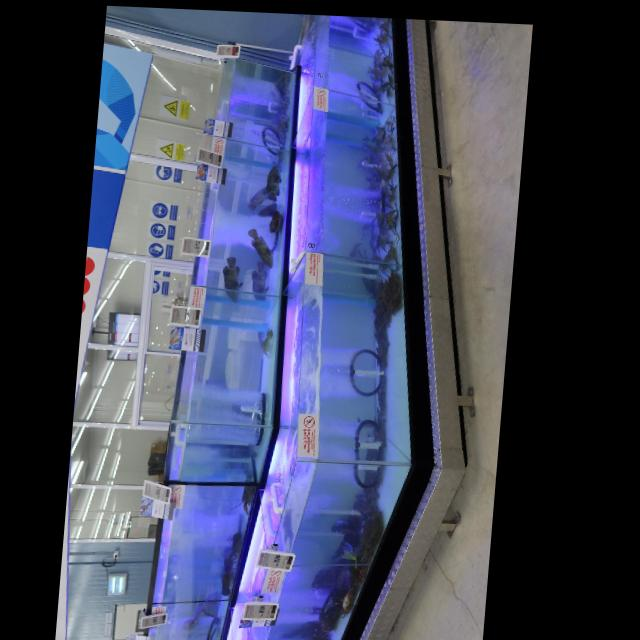Groupers: (245, 228, 276, 269), (219, 256, 245, 301), (249, 260, 271, 303), (266, 164, 283, 201)
